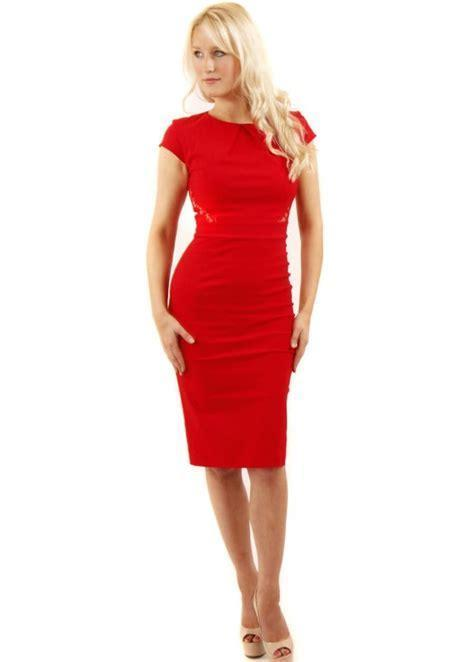dress: (158, 108, 317, 469)
